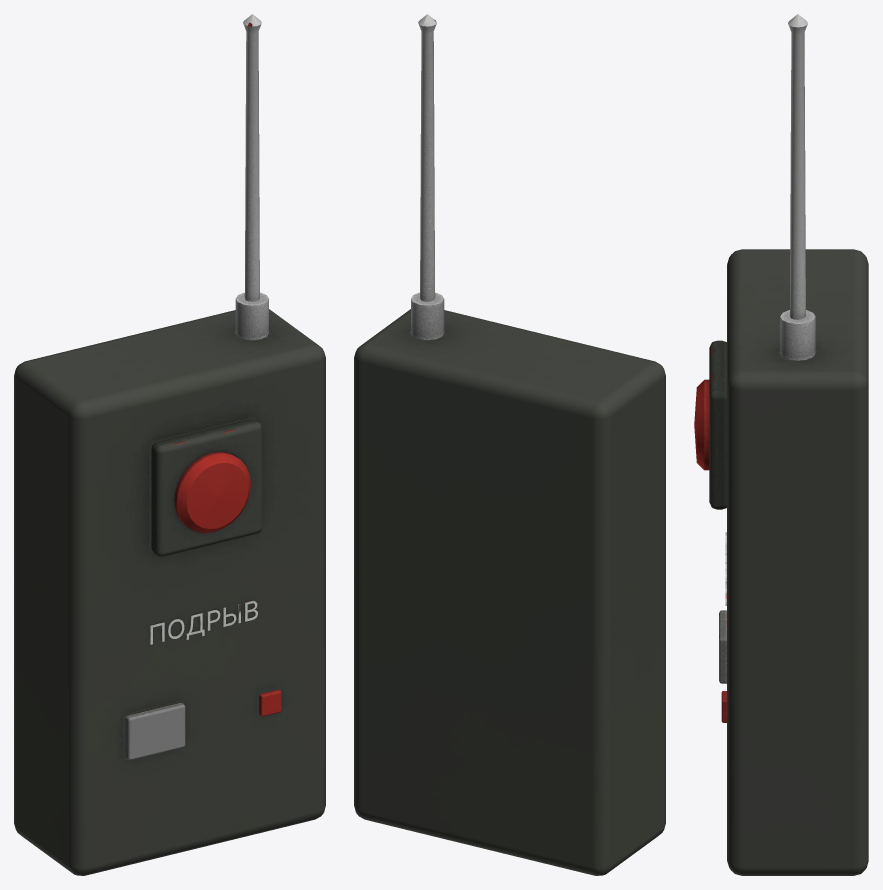
Rendered from remote.glb.
3 views of the same model, side by side, from view 1: azimuth 30°, elevation 25°; view 2: azimuth 150°, elevation 25°; view 3: azimuth 270°, elevation 25° (orthographic). The views are drawn at different scales.
Visible parts, largest first — view 1: remote, button; view 2: remote; view 3: remote, button.
Boxes of the visible parts, left/top/right/bottom form: remote: left=14, top=14, right=325, bottom=875; button: left=174, top=452, right=250, bottom=533; remote: left=354, top=14, right=665, bottom=875; remote: left=709, top=14, right=868, bottom=875; button: left=694, top=379, right=709, bottom=470.
Size of the model in its own units: 0.062 by 0.184 by 0.0345.
1 material, 1 textured.
